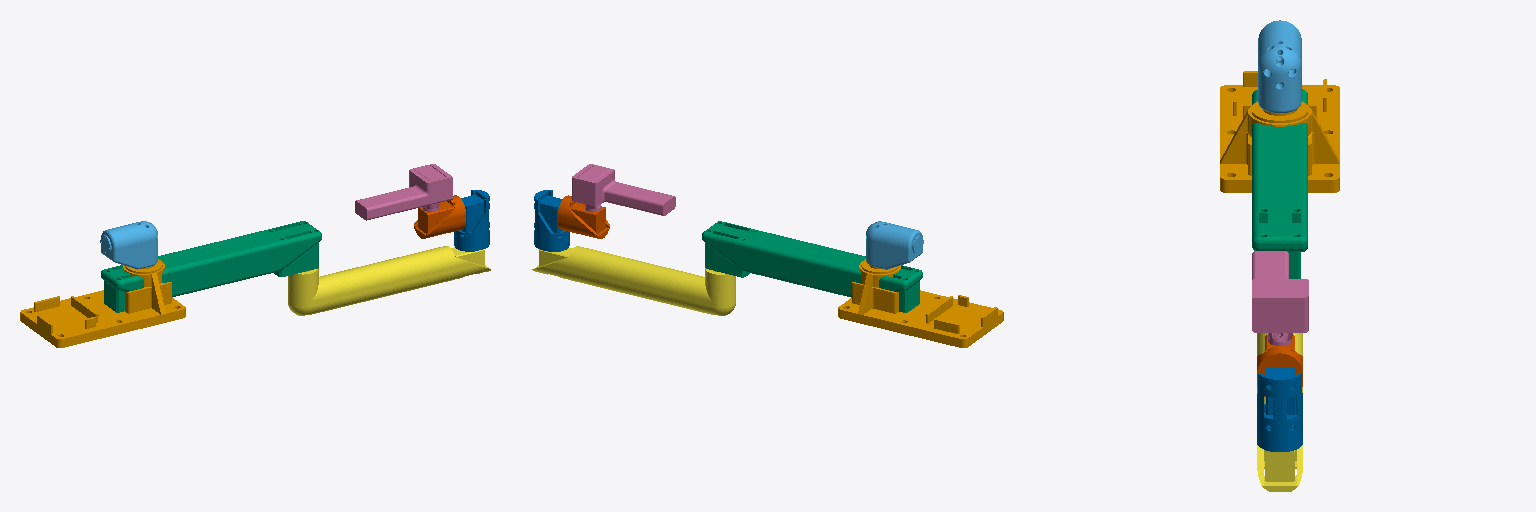
robot.urdf — GELLO_Assembly_URDF_V4:
<?xml version='1.0' encoding='utf-8'?>
<robot 
    name="GELLO_Assembly_URDF_V4">
    <link name="base_link">
        <inertial>
            <origin 
                xyz="0.012101145839417736 4.5485259978825654e-05 0.012837746339482453" 
                rpy="0.0 0.0 0.0" />
            <mass 
                value="0.1521" />
            <inertia 
                ixx="0.000787615441049584" 
                iyy="0.0026373975037422373" 
                izz="0.0030248527508061783" 
                ixy="2.843446005017187e-06" 
                iyz="-1.23281289165201e-07" 
                ixz="-0.0003208037873725998" />
        </inertial>
        <visual 
            name="base_link_visual">
            <origin 
                xyz="0.0 0.0 0.0" 
                rpy="0.0 0.0 0.0" />
            <geometry>
                <mesh 
                    filename="meshes/base_link.stl" 
                    scale="0.001 0.001 0.001" />
            </geometry>
        </visual>
        <collision name="base_link_collision">
            <origin 
                xyz="0.0 0.0 0.0" 
                rpy="0.0 0.0 0.0" />
            <geometry>
                <mesh 
                    filename="meshes/base_link.stl" 
                    scale="0.001 0.001 0.001" />
            </geometry>
        </collision>
    </link>
    <link name="link_1">
        <inertial>
            <origin 
                xyz="-0.013013992085734394 -2.9083198717770166e-09 0.037938028629702227" 
                rpy="0.0 -0.0 0.0" />
            <mass 
                value="0.01753" />
            <inertia 
                ixx="2.082359703239737e-05" 
                iyy="3.448540701715534e-05" 
                izz="2.4147887405375526e-05" 
                ixy="2.1787401641000033e-12" 
                iyz="2.850834935600783e-12" 
                ixz="5.385388631231556e-06" />
        </inertial>
        <visual 
            name="link_1_visual">
            <origin 
                xyz="0.0 -1.4901160552385793e-10 0.003000000000000016" 
                rpy="0.0 0.0 3.141592653589793" />
            <geometry>
                <mesh 
                    filename="meshes/link_1.stl" 
                    scale="0.001 0.001 0.001" />
            </geometry>
        </visual>
        <collision 
            name="link_1_collision">
            <origin 
                xyz="0.0 -1.4901160552385793e-10 0.003000000000000016" 
                rpy="0.0 0.0 3.141592653589793" />
            <geometry>
                <mesh 
                    filename="meshes/link_1.stl" 
                    scale="0.001 0.001 0.001" />
            </geometry>
        </collision>
    </link>
    <joint 
        name="base_link_joint_1" 
        type="revolute">
        <origin 
            xyz="0.04725 0.0 0.033" 
            rpy="0.0 -0.0 0.0" />
        <parent 
            link="base_link" />
        <child 
            link="link_1" />
        <axis 
            xyz="0.0 0.0 1.0" />
        <limit 
            lower="-3.14159" 
            upper="3.14159" 
            effort="1.0" 
            velocity="10" />
    </joint>
    <link name="link_2">
        <inertial>
            <origin 
                xyz="0.018566 0.000228 0.106619" 
                rpy="0.0 0.0 0.0" />
            <mass 
                value="0.2561" />
            <inertia 
                ixx="0.00268984" 
                ixy="-1.90105e-06" 
                ixz="2.46637e-04" 
                iyy="0.00289029" 
                iyz="-3.39134e-06" 
                izz="0.00029357" />
        </inertial>
        <visual 
            name="link_2_visual">
            <origin 
                xyz="0.0 0.0 0.0" 
                rpy="0.0 0.0 0.0" />
            <geometry>
                <mesh 
                    filename="meshes/link_2.stl" 
                    scale="0.001 0.001 0.001" />
            </geometry>
        </visual>
        <collision 
            name="link_2_collision">
            <origin 
                xyz="0.0 0.0 0.0" 
                rpy="0.0 0.0 0.0" />
            <geometry>
                <mesh 
                    filename="meshes/link_2.stl" 
                    scale="0.001 0.001 0.001" />
            </geometry>
        </collision>
    </link>
    <joint 
        name="link_2_joint_2" 
        type="revolute">
        <origin 
            xyz="-0.04109700000000001 8.93885791302459e-05 0.013141463219374261" 
            rpy="-3.141592653589793 -1.5707963267948966 0" />
        <parent 
            link="link_1" />
        <child 
            link="link_2" />
        <axis 
            xyz="0.0 -0.0 -1.0" />
        <limit 
            lower="-3.14159" 
            upper="3.14159" 
            effort="3.5" 
            velocity="10" />
    </joint>
    <link name="link_3">
        <inertial>
            <origin 
                xyz="0.03498 0.00004 0.09722" 
                rpy="0.0 -0.0 0.0" />
            <mass 
                value="0.1353" />
            <inertia 
                ixx="6.70e-04" 
                iyy="1.87e-03" 
                izz="1.24e-03" 
                ixy="-2.43e-07" 
                iyz="-1.74e-07" 
                ixz="4.88e-04" />
        </inertial>
        <visual 
            name="link_3_visual">
            <origin 
                xyz="-0.015499997823088344 -1.7002665094779935e-09 -0.0029875020980838093" 
                rpy="-3.141592653589793 -1.5707963267948515 0" />
            <geometry>
                <mesh 
                    filename="meshes/link_3.stl" 
                    scale="0.001 0.001 0.001" />
            </geometry>
        </visual>
        <collision 
            name="link_3_collision">
            <origin 
                xyz="-0.015499997823088344 -1.7002665094779935e-09 -0.0029875020980838093" 
                rpy="-3.141592653589793 -1.5707963267948515 0" />
            <geometry>
                <mesh 
                    filename="meshes/link_3.stl" 
                    scale="0.001 0.001 0.001" />
            </geometry>
        </collision>
    </link>
    <joint 
        name="link_2_joint_3" 
        type="revolute">
        <origin 
            xyz="-0.04109700000000001 -1.4208697541456816e-09 0.22629999321937447" 
            rpy="-3.141592653589793 -1.5707963267948966 0" />
        <parent 
            link="link_2" />
        <child 
            link="link_3" />
        <axis 
            xyz="0.0 -0.0 -1.0" />
        <limit 
            lower="-3.14159" 
            upper="3.14159" 
            effort="3.5" 
            velocity="10" />
    </joint>
    <link name="link_4">
        <inertial>
            <origin 
                xyz="-0.02792 0.00055 -0.00109" 
                    rpy="0.0 -0.0 0.0" />
            <mass 
                value="0.0412" />
            <inertia 
                ixx="1.74e-05" 
                iyy="3.46e-05" 
                izz="2.64e-05" 
                ixy="3.26e-07" 
                iyz="-5.98e-07" 
                ixz="1.12e-05" />
        </inertial>
        <visual 
            name="link_4_visual">
            <origin 
                xyz="2.2236167041000952e-09 1.0978169125673566e-09 -0.002999996757507506" 
                rpy="3.141592653589793 0.0 -3.141592653589793" />
            <geometry>
                <mesh 
                    filename="meshes/link_4.stl" 
                    scale="0.001 0.001 0.001" />
            </geometry>
        </visual>
        <collision 
            name="link_4_collision">
            <origin 
                xyz="2.2236167041000952e-09 1.0978169125673566e-09 -0.002999996757507506" 
                rpy="3.141592653589793 0.0 -3.141592653589793" />
            <geometry>
                <mesh 
                    filename="meshes/link_4.stl" 
                    scale="0.001 0.001 0.001" />
            </geometry>
        </collision>
    </link>
    <joint 
        name="link_3_joint_4" 
        type="revolute">
        <origin 
            xyz="0.19610000999999996 0.0 -0.025975" 
            rpy="3.141592653589793 0.0 -0.0" />
        <parent 
            link="link_3" />
        <child 
            link="link_4" />
        <axis 
            xyz="0.0 0.0 -1.0" />
        <limit 
            lower="-3.14159" 
            upper="3.14159" 
            effort="1.0" 
            velocity="10" />
    </joint>
    <link name="link_5">
        <inertial>
            <origin 
                xyz="-0.00091 -0.00014 -0.02400" 
                rpy="0.0 -0.0 0.0" />
            <mass 
                value="0.037" />
            <inertia 
                ixx="8.11e-05" 
                iyy="8.45e-05" 
                izz="1.25e-05" 
                ixy="6.60e-08" 
                iyz="3.94e-06" 
                ixz="6.76e-06" />
        </inertial>
        <visual 
            name="link_5_visual">
            <origin 
                xyz="-0.0029999977763846887 1.097816903963128e-09 2.512335690596501e-09" 
                rpy="0.0 1.5707963267948966 0" />
            <geometry>
                <mesh 
                    filename="meshes/link_5.stl" 
                    scale="0.001 0.001 0.001" />
            </geometry>
        </visual>
        <collision 
            name="link_5_collision">
            <origin 
                xyz="-0.0029999977763846887 1.097816903963128e-09 2.512335690596501e-09" 
                rpy="0.0 1.5707963267948966 0" />
            <geometry>
                <mesh 
                    filename="meshes/link_5.stl" 
                    scale="0.001 0.001 0.001" />
            </geometry>
        </collision>
    </link>
    <joint 
        name="link_4_joint_5" 
        type="revolute">
        <origin 
            xyz="-0.01239999999999995 0.0 -0.0425" 
            rpy="0.0 0.0 -0.0" />
        <parent 
            link="link_4" />
        <child 
            link="link_5" />
        <axis 
            xyz="-1.0 0.0 -0.0" />
        <limit 
            lower="-3.14159" 
            upper="3.14159" 
            effort="1.0" 
            velocity="10" />
    </joint>
    <link name="link_6_handle">
        <inertial>
            <origin 
                xyz="-0.02576 -0.00154 -0.01597" 
                rpy="0.0 -0.0 0.0" />
            <mass 
                value="0.0482" />
            <inertia 
                ixx="2.21e-05" 
                iyy="1.48e-04" 
                izz="1.43e-04" 
                ixy="-5.32e-06" 
                iyz="2.59e-06" 
                ixz="2.95e-05" />
        </inertial>
        <visual 
            name="link_6_handle_visual">
            <origin 
                xyz="-0.009999998074407372 -0.001999999244909985 -0.027499997681379087" 
                rpy="3.141592653589793 0.0 1.5707963267948968" />
            <geometry>
                <mesh 
                    filename="meshes/link_6_handle.stl" 
                    scale="0.001 0.001 0.001" />
            </geometry>
        </visual>
        <collision 
            name="link_6_handle_collision">
            <origin 
                xyz="-0.009999998074407372 -0.001999999244909985 -0.027499997681379087" 
                rpy="3.141592653589793 0.0 1.5707963267948968" />
            <geometry>
                <mesh 
                    filename="meshes/link_6_handle.stl" 
                    scale="0.001 0.001 0.001" />
            </geometry>
        </collision>
    </link>
    <joint 
        name="link_5_joint_6" 
        type="revolute">
        <origin 
            xyz="-0.035500000000000045 0.0 -0.012000000000000002" 
            rpy="0.0 -0.0 0.0" />
        <parent 
            link="link_5" />
        <child 
            link="link_6_handle" />
        <axis 
            xyz="-0.0 -0.0 -1.0" />
        <limit 
            lower="-3.14159" 
            upper="3.14159" 
            effort="1.0" 
            velocity="10" />
    </joint>
</robot>

--- What the picture shows (computed from the rendered views, not written in the file) ---
Views: 3 orthographic renders of the robot side by side, from view 1: azimuth 30°, elevation 25°; view 2: azimuth 150°, elevation 25°; view 3: azimuth 270°, elevation 25°.
Robot: GELLO_Assembly_URDF_V4 — 7 links, 6 joints (6 revolute); root link base_link; default pose: all joints at 0.
Links seen in each view (by area): view 1: link_2, link_3, base_link, link_6_handle, link_1, link_4, link_5; view 2: link_2, link_3, base_link, link_6_handle, link_1, link_4, link_5; view 3: base_link, link_2, link_6_handle, link_1, link_4, link_3, link_5.
Boxes of the visible links, x1,y1,x2,y2 form: link_2: (101, 221, 321, 312); link_3: (288, 246, 490, 315); base_link: (20, 259, 185, 347); link_6_handle: (355, 164, 452, 220); link_1: (100, 221, 157, 269); link_4: (454, 190, 489, 251); link_5: (414, 195, 465, 238); link_2: (702, 221, 922, 312); link_3: (532, 246, 735, 315); base_link: (838, 259, 1003, 347); link_6_handle: (572, 164, 675, 215); link_1: (866, 221, 923, 269); link_4: (534, 190, 569, 251); link_5: (558, 195, 609, 238); base_link: (1220, 71, 1339, 192); link_2: (1252, 89, 1307, 278); link_6_handle: (1252, 251, 1308, 345); link_1: (1258, 20, 1301, 112); link_4: (1257, 367, 1302, 451); link_3: (1257, 333, 1302, 491); link_5: (1257, 335, 1302, 396).
Bounding box of the posed robot: 0.5216 × 0.08 × 0.1437 m (x, y, z).
Meshes: 7 distinct files referenced, 7 mesh visuals loaded (7 binary STL).
